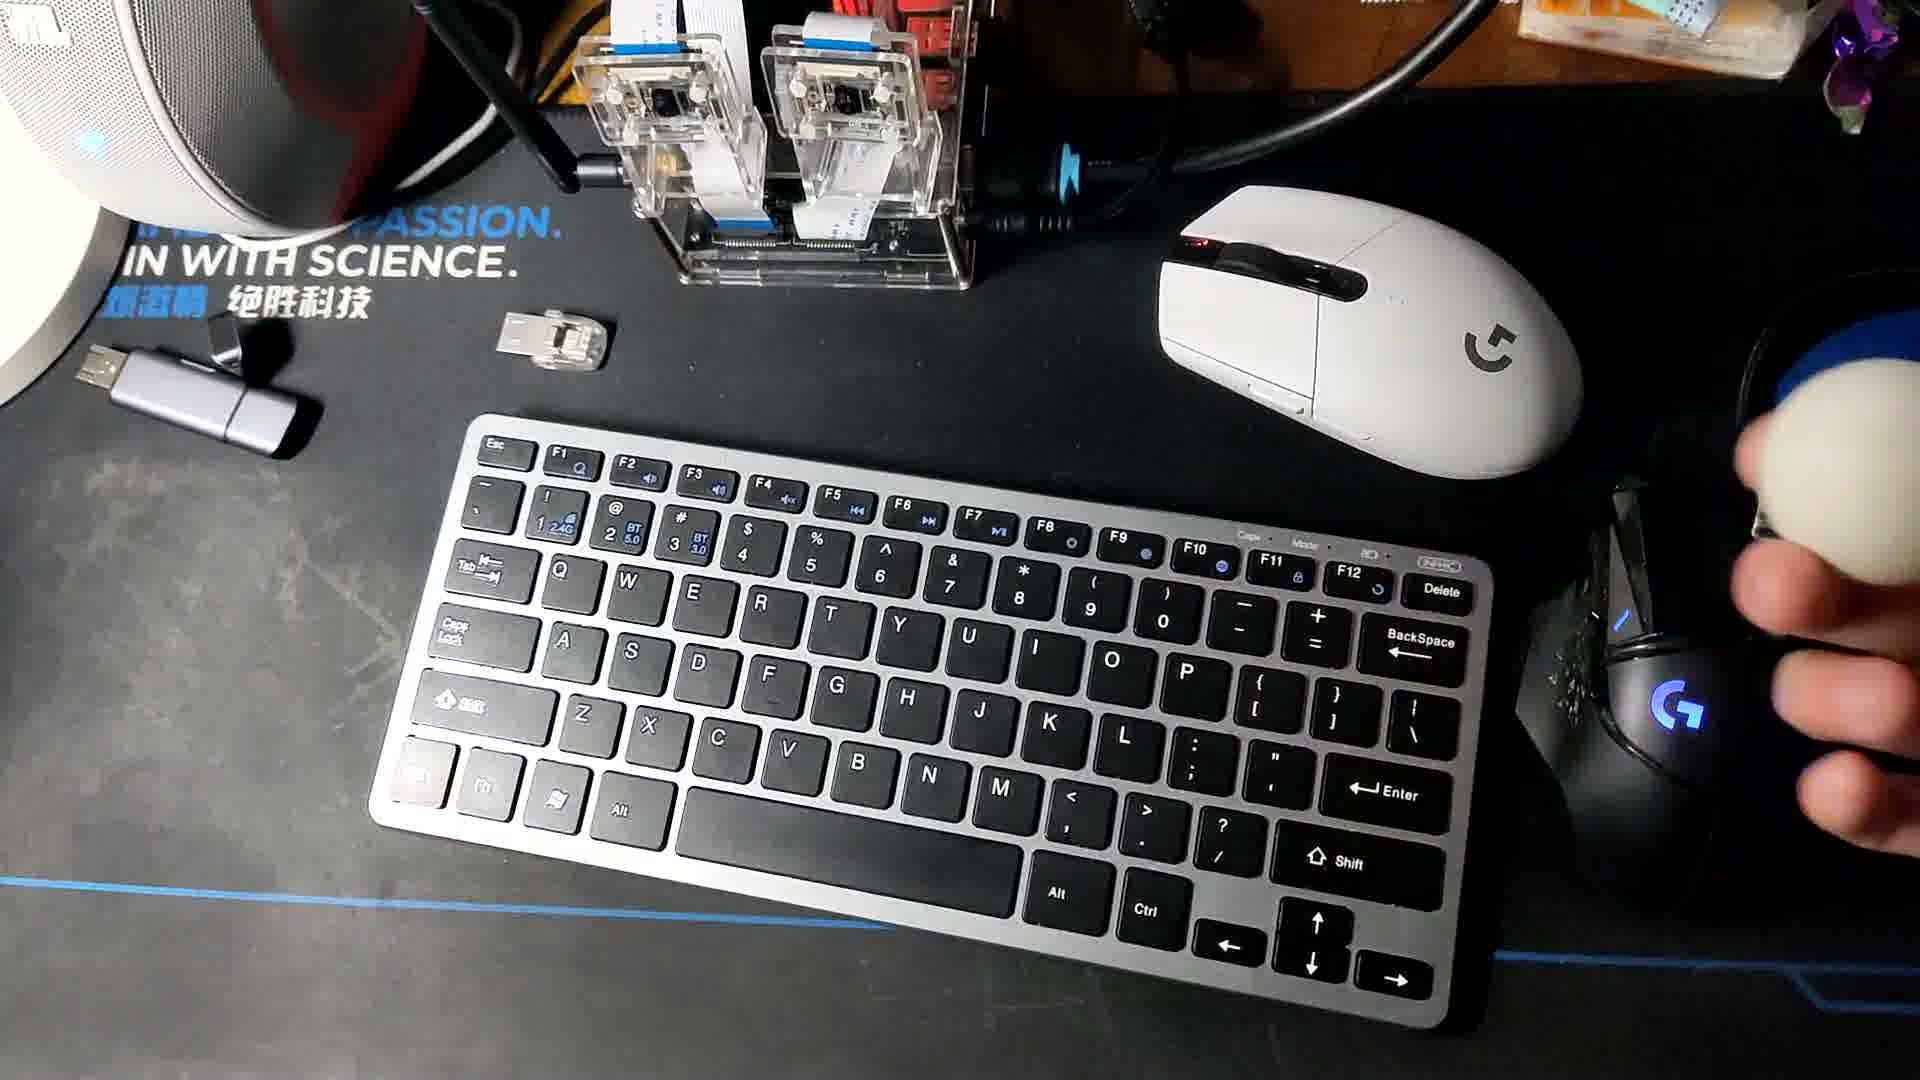Ball: (1755, 359, 1915, 585)
